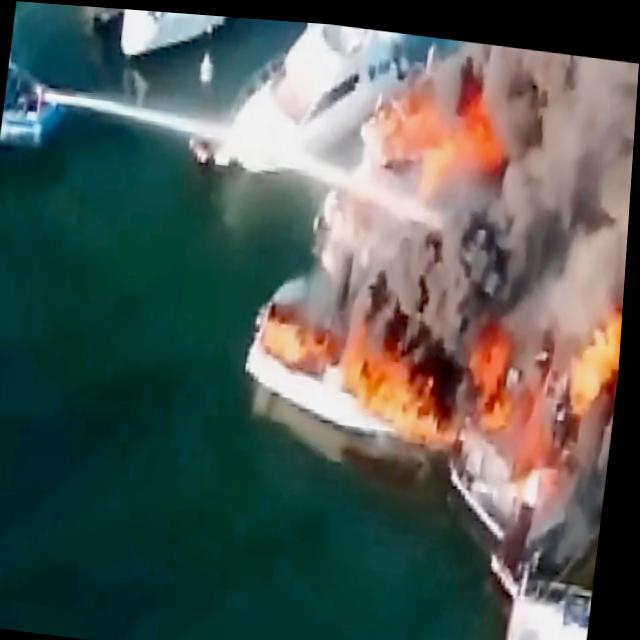fire: (262, 275, 449, 419), (367, 74, 496, 163), (459, 300, 510, 397)
smoke: (512, 41, 639, 228)
